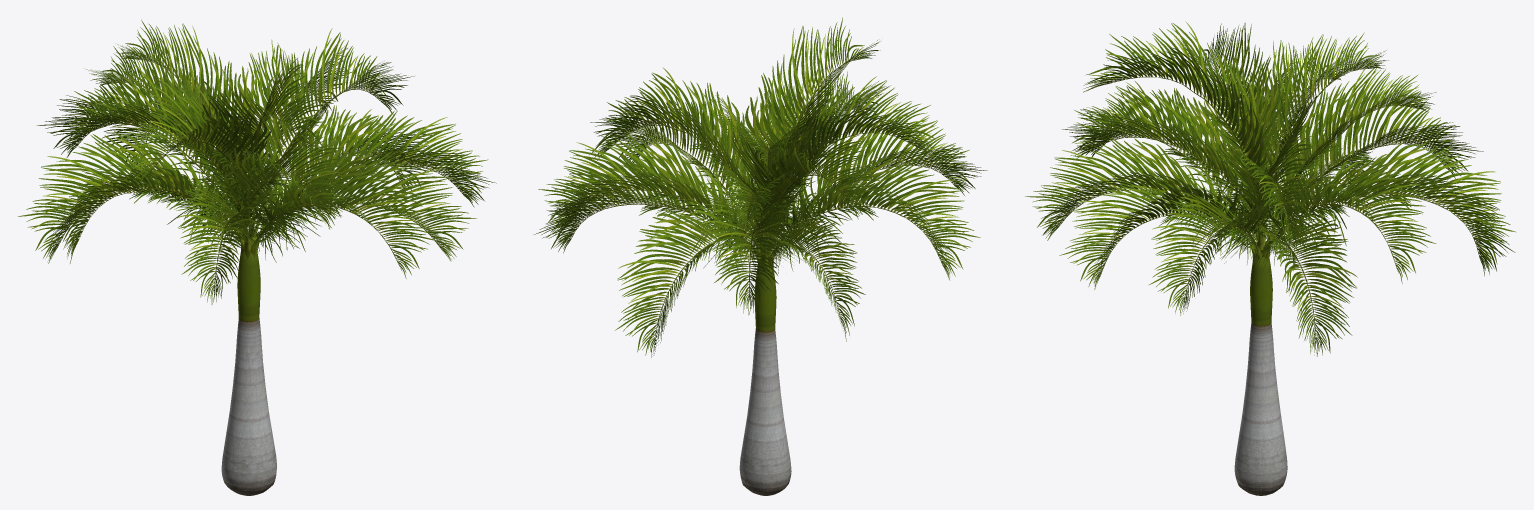
The model's file is roystonea.glb.
3 views of the same model, side by side, from view 1: azimuth 30°, elevation 25°; view 2: azimuth 150°, elevation 25°; view 3: azimuth 270°, elevation 25° (orthographic). The views are drawn at different scales.
Parts seen in each view (by area): view 1: Mesh1 Group2 Group1 W3D_Palma_real_Roystonea_regia___Edgardo, Mesh35 Group20 W3D_Palma_real_Roystonea_regia___Edgardo_R1 M; view 2: Mesh1 Group2 Group1 W3D_Palma_real_Roystonea_regia___Edgardo, Mesh35 Group20 W3D_Palma_real_Roystonea_regia___Edgardo_R1 M; view 3: Mesh1 Group2 Group1 W3D_Palma_real_Roystonea_regia___Edgardo, Mesh35 Group20 W3D_Palma_real_Roystonea_regia___Edgardo_R1 M.
Boxes of the visible parts, bbox=[...] form: Mesh1 Group2 Group1 W3D_Palma_real_Roystonea_regia___Edgardo: bbox=[18, 19, 496, 304]; Mesh35 Group20 W3D_Palma_real_Roystonea_regia___Edgardo_R1 M: bbox=[221, 244, 276, 495]; Mesh1 Group2 Group1 W3D_Palma_real_Roystonea_regia___Edgardo: bbox=[534, 17, 987, 357]; Mesh35 Group20 W3D_Palma_real_Roystonea_regia___Edgardo_R1 M: bbox=[739, 257, 791, 495]; Mesh1 Group2 Group1 W3D_Palma_real_Roystonea_regia___Edgardo: bbox=[1025, 21, 1516, 356]; Mesh35 Group20 W3D_Palma_real_Roystonea_regia___Edgardo_R1 M: bbox=[1234, 248, 1287, 495].
Bounding box in the file's own units: 4.54 × 4.67 × 4.61.
Materials: 2 (2 with a texture image).
